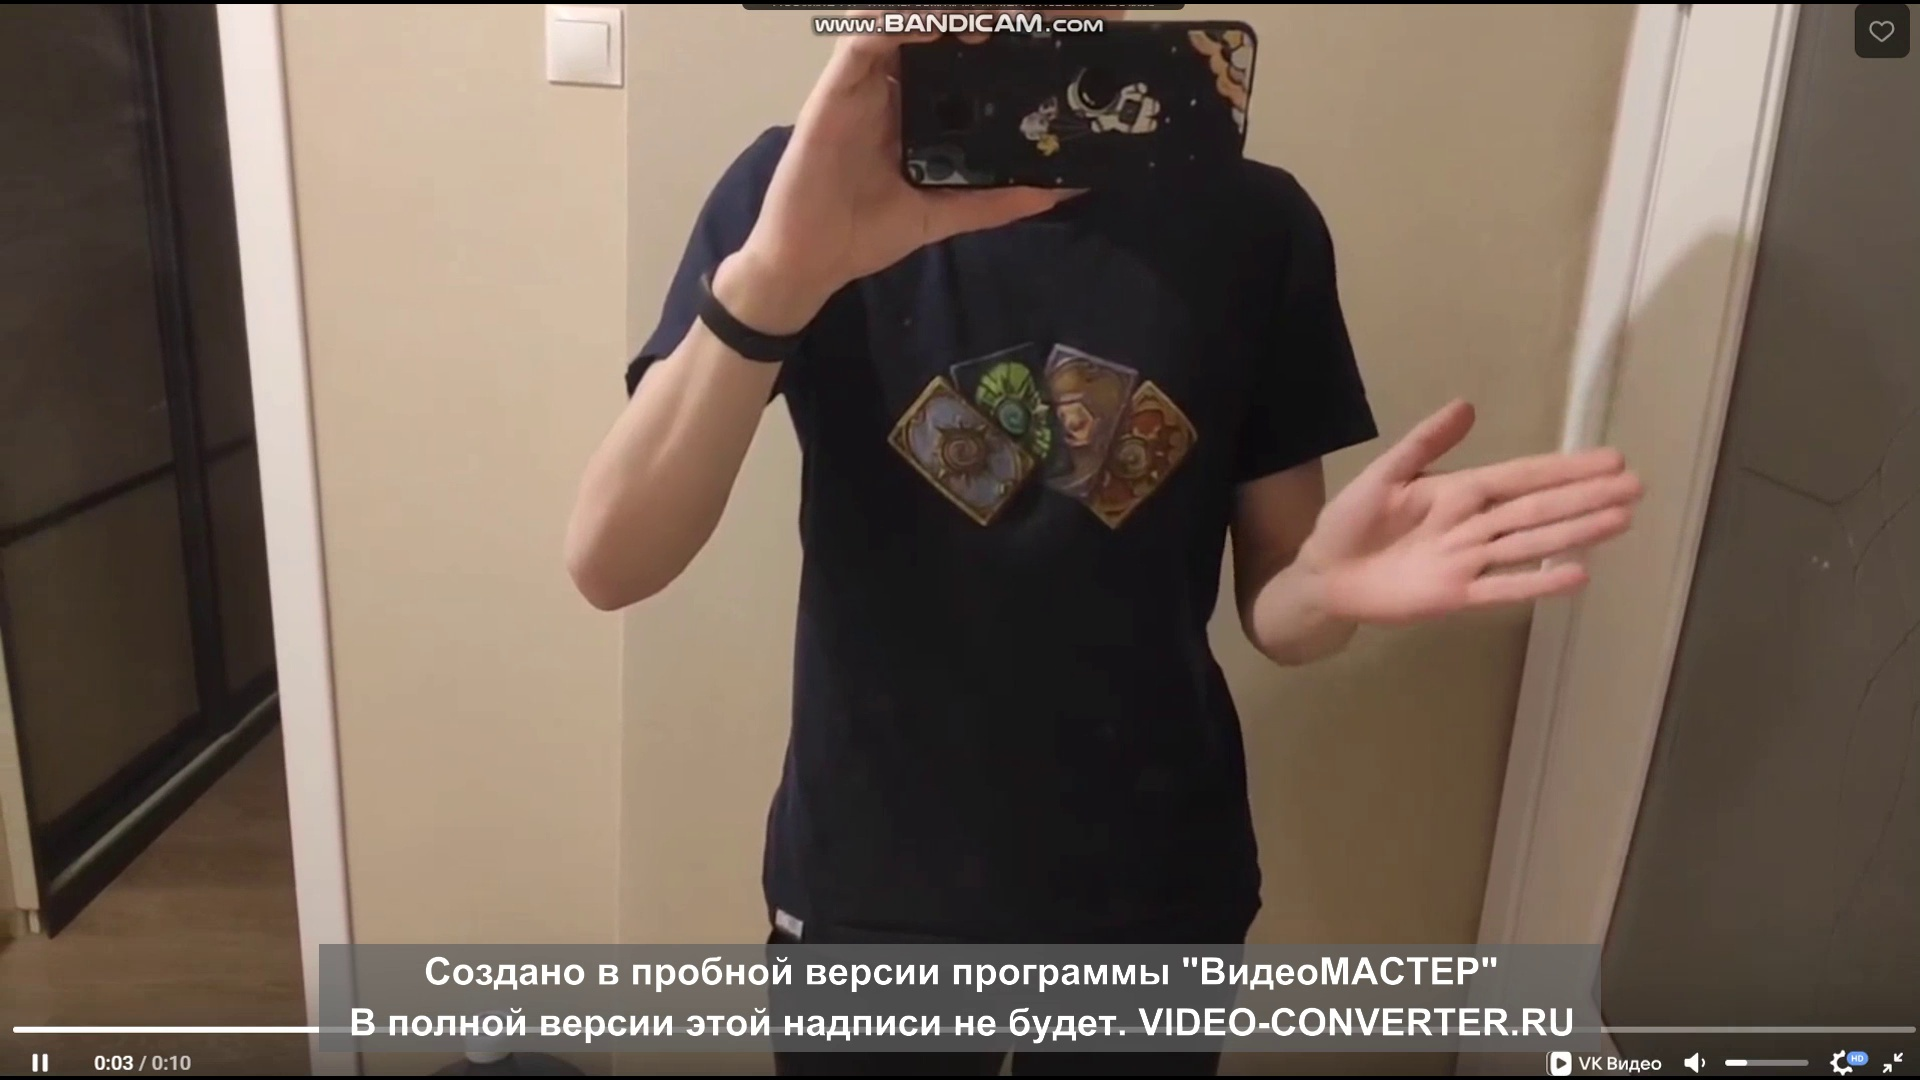Ладонь: (1305, 392, 1648, 620)
